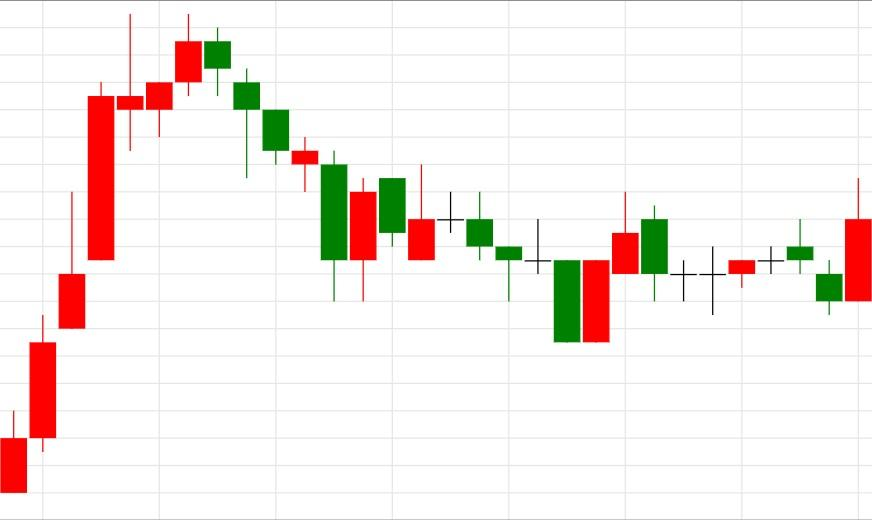three_black_crows_fall: (0, 14, 290, 492)
